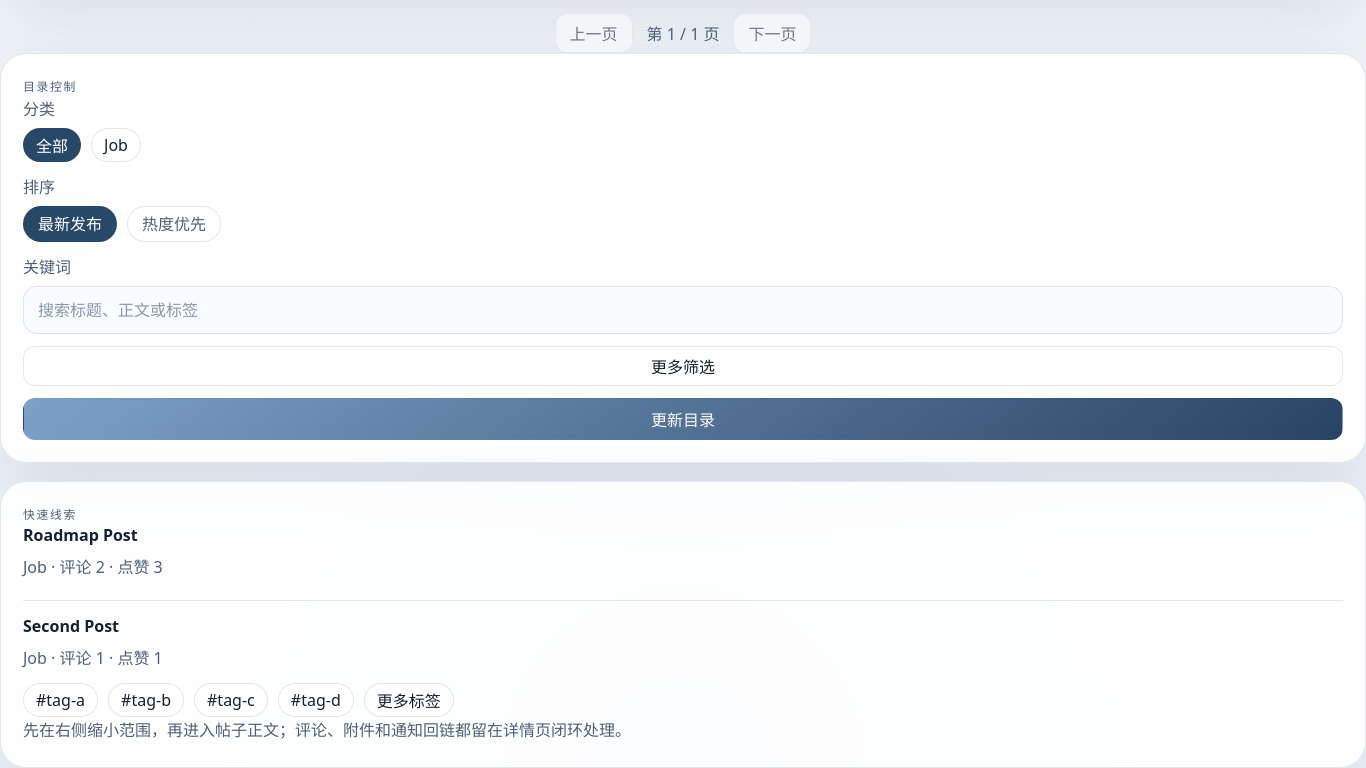
Test: CommunityHubPage › shows only four hot tags until the user expands them
(page scrolled)
Expected: the text "快速线索" is shown, [23,506,77,522]
Expected: the text "Roadmap Post" is shown, [23,524,138,546]
Click the button "更多标签". click: (409, 700)
box: [364,683,454,717]
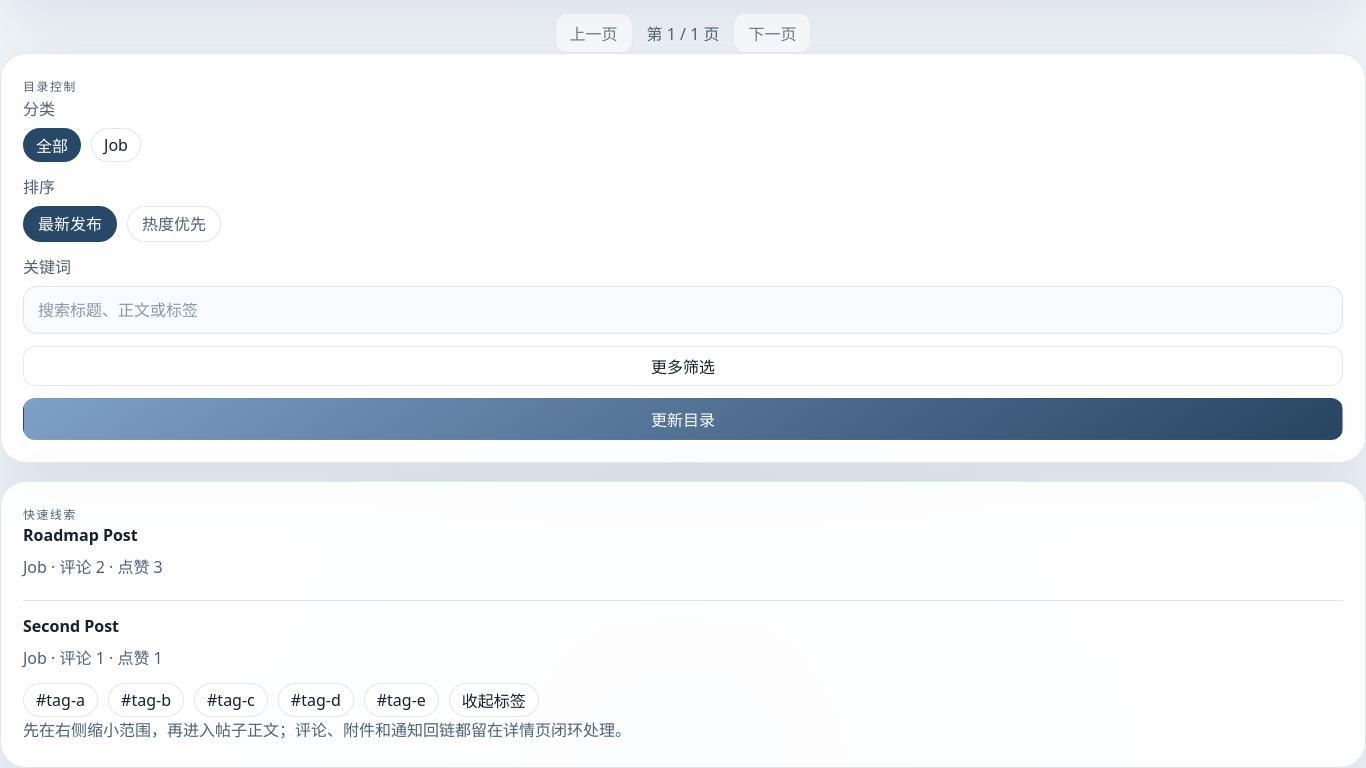
Result: the button "#tag-e" is shown at [364,683,439,717]
